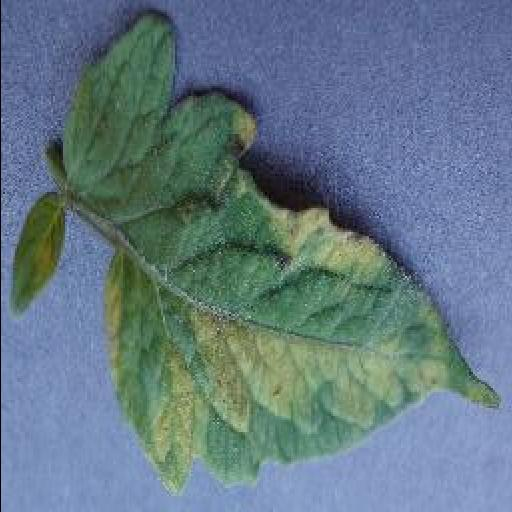disease_tomato: (66, 20, 504, 496)
